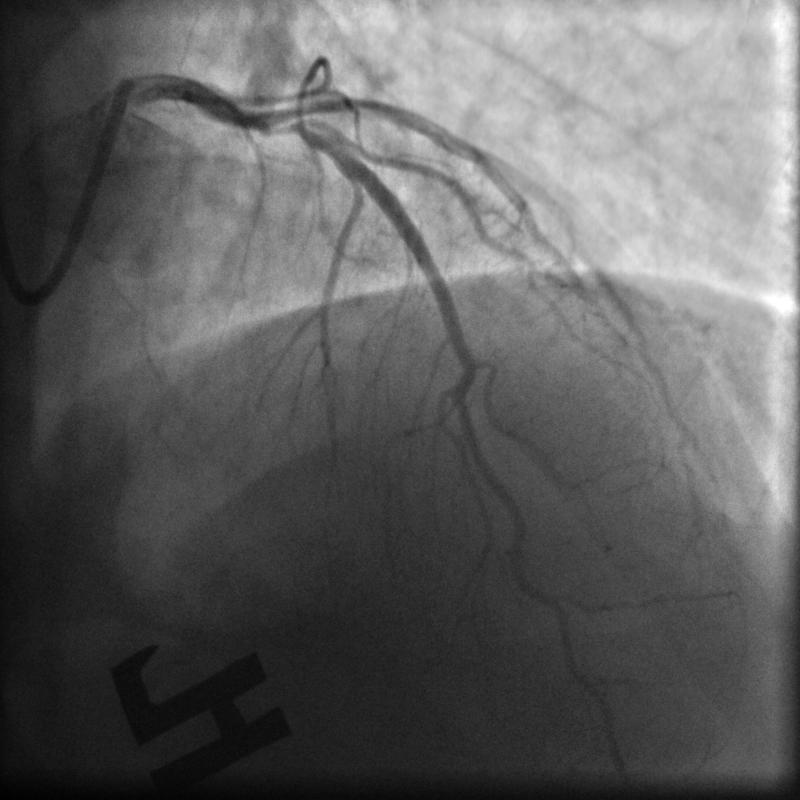Stenosis: (243, 105, 312, 144)
